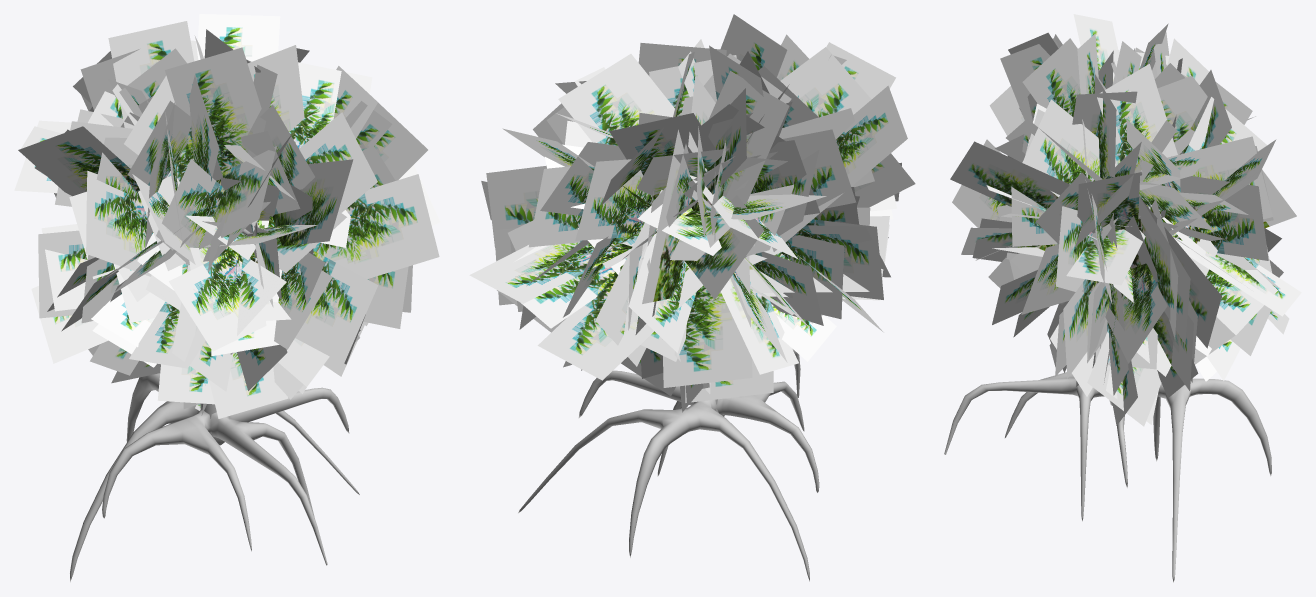
Rendered from manglar.fbx.
The picture shows the model from 3 angles, left to right: view 1: azimuth 30°, elevation 25°; view 2: azimuth 150°, elevation 25°; view 3: azimuth 270°, elevation 25°; orthographic projection. The views are drawn at different scales.
Parts seen in each view (by area): view 1: Cube, Cube|pngwing.com|Dupli|137, Cube|pngwing.com|Dupli|190, Cube|pngwing.com|Dupli|32, Cube|pngwing.com|Dupli|142, Cube|pngwing.com|Dupli|93, Cube|pngwing.com|Dupli|39, Cube|pngwing.com|Dupli|30, Cube|pngwing.com|Dupli|199, Cube|pngwing.com|Dupli|31, Cube|pngwing.com|Dupli|166, Cube|pngwing.com|Dupli|141 (+50 smaller); view 2: Cube, Cube|pngwing.com|Dupli|65, Cube|pngwing.com|Dupli|60, Cube|pngwing.com|Dupli|67, Cube|pngwing.com|Dupli|66, Cube|pngwing.com|Dupli|39, Cube|pngwing.com|Dupli|78, Cube|pngwing.com|Dupli|69, Cube|pngwing.com|Dupli|167, Cube|pngwing.com|Dupli|133, Cube|pngwing.com|Dupli|130, Cube|pngwing.com|Dupli|86 (+44 smaller); view 3: Cube, Cube|pngwing.com|Dupli|31, Cube|pngwing.com|Dupli|54, Cube|pngwing.com|Dupli|179, Cube|pngwing.com|Dupli|182, Cube|pngwing.com|Dupli|48, Cube|pngwing.com|Dupli|133, Cube|pngwing.com|Dupli|130, Cube|pngwing.com|Dupli|129, Cube|pngwing.com|Dupli|66, Cube|pngwing.com|Dupli|195, Cube|pngwing.com|Dupli|170 (+48 smaller).
Part boxes in pixels (bbox=[...]): Cube: bbox=[70, 221, 359, 582]; Cube|pngwing.com|Dupli|137: bbox=[313, 174, 439, 279]; Cube|pngwing.com|Dupli|190: bbox=[165, 47, 261, 172]; Cube|pngwing.com|Dupli|32: bbox=[169, 250, 266, 351]; Cube|pngwing.com|Dupli|142: bbox=[295, 251, 378, 363]; Cube|pngwing.com|Dupli|93: bbox=[86, 170, 153, 276]; Cube|pngwing.com|Dupli|39: bbox=[18, 126, 139, 196]; Cube|pngwing.com|Dupli|30: bbox=[268, 62, 372, 247]; Cube|pngwing.com|Dupli|199: bbox=[108, 21, 194, 128]; Cube|pngwing.com|Dupli|31: bbox=[278, 159, 353, 246]; Cube|pngwing.com|Dupli|166: bbox=[199, 146, 276, 249]; Cube|pngwing.com|Dupli|141: bbox=[156, 159, 224, 264]; Cube: bbox=[518, 349, 819, 581]; Cube|pngwing.com|Dupli|65: bbox=[663, 256, 752, 387]; Cube|pngwing.com|Dupli|60: bbox=[558, 54, 677, 145]; Cube|pngwing.com|Dupli|67: bbox=[537, 264, 703, 380]; Cube|pngwing.com|Dupli|66: bbox=[469, 241, 632, 303]; Cube|pngwing.com|Dupli|39: bbox=[772, 85, 907, 251]; Cube|pngwing.com|Dupli|78: bbox=[575, 159, 654, 240]; Cube|pngwing.com|Dupli|69: bbox=[707, 71, 789, 205]; Cube|pngwing.com|Dupli|167: bbox=[780, 47, 871, 117]; Cube|pngwing.com|Dupli|133: bbox=[642, 92, 713, 303]; Cube|pngwing.com|Dupli|130: bbox=[486, 165, 546, 247]; Cube|pngwing.com|Dupli|86: bbox=[609, 113, 715, 199]; Cube: bbox=[944, 170, 1271, 582]; Cube|pngwing.com|Dupli|31: bbox=[950, 141, 1069, 208]; Cube|pngwing.com|Dupli|54: bbox=[1022, 99, 1150, 209]; Cube|pngwing.com|Dupli|179: bbox=[1160, 176, 1268, 260]; Cube|pngwing.com|Dupli|182: bbox=[1097, 64, 1177, 206]; Cube|pngwing.com|Dupli|48: bbox=[1105, 263, 1167, 363]; Cube|pngwing.com|Dupli|133: bbox=[1157, 75, 1296, 228]; Cube|pngwing.com|Dupli|130: bbox=[1137, 196, 1190, 344]; Cube|pngwing.com|Dupli|129: bbox=[1022, 38, 1105, 116]; Cube|pngwing.com|Dupli|66: bbox=[1174, 237, 1301, 316]; Cube|pngwing.com|Dupli|195: bbox=[1066, 229, 1145, 285]; Cube|pngwing.com|Dupli|170: bbox=[1167, 136, 1272, 233].
Bounding box in the file's own units: 296 × 352 × 245.
